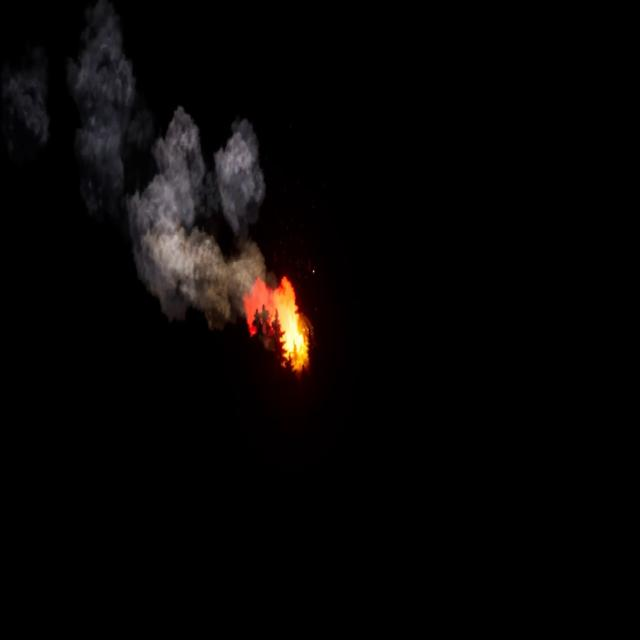fire: (241, 274, 310, 380)
smoke: (78, 8, 267, 320)
